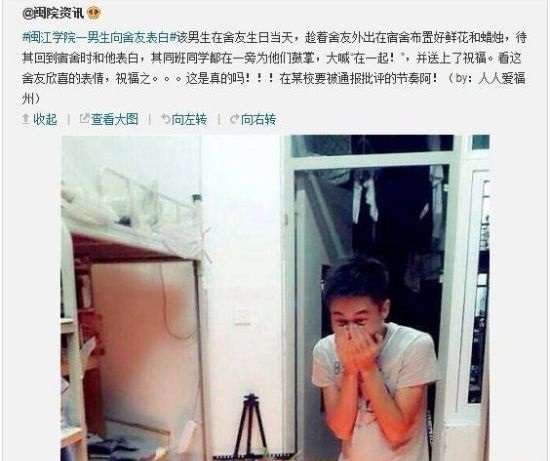face: (331, 295, 379, 346)
